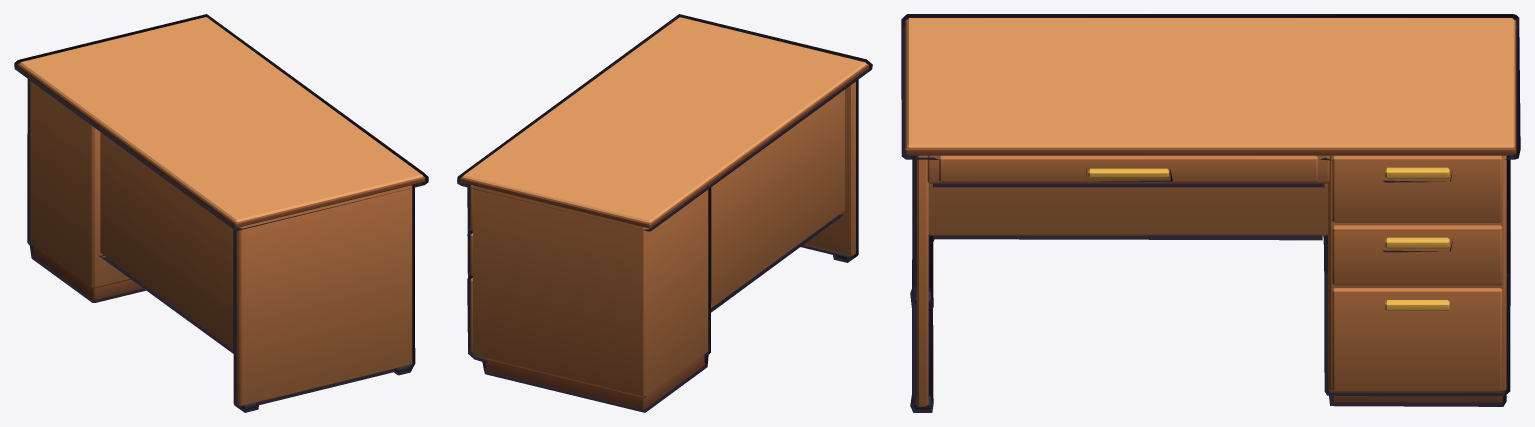
The model's file is Desk_Outline.fbx.
The picture shows the model from 3 angles, left to right: view 1: azimuth 30°, elevation 25°; view 2: azimuth 150°, elevation 25°; view 3: azimuth 270°, elevation 25°; orthographic projection. The views are drawn at different scales.
Parts seen in each view (by area): view 1: Desk; view 2: Desk; view 3: Desk.
Boxes of the visible parts, bbox=[...] form: Desk: bbox=[14, 14, 428, 412]; Desk: bbox=[457, 14, 872, 412]; Desk: bbox=[901, 14, 1520, 412].
Bounding box in the file's own units: 3.49 × 3.42 × 6.87.
1 material, 1 textured.
